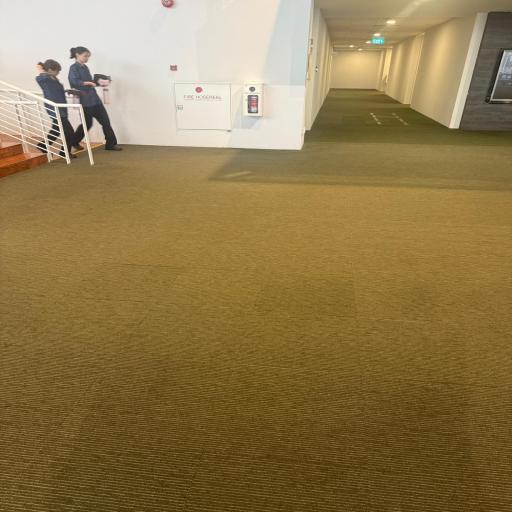person_right: (66, 46, 122, 152), (35, 60, 83, 158), (35, 59, 77, 159)
